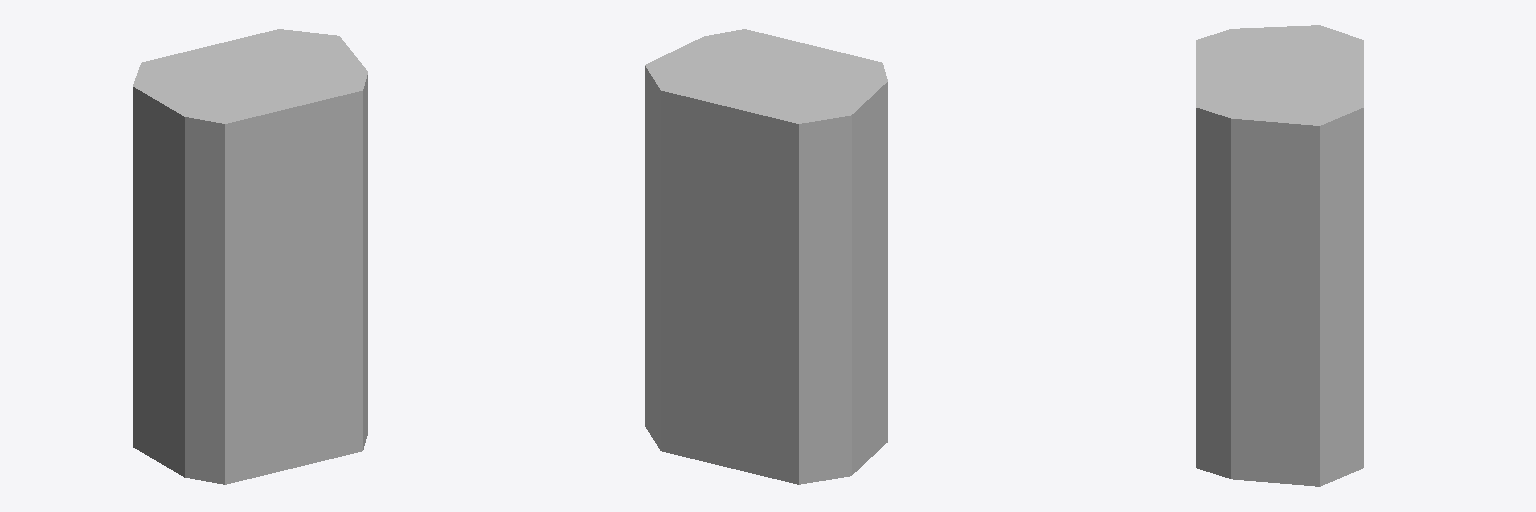
File: custom_right_leg.obj
3 views of the same model, side by side, from view 1: azimuth 30°, elevation 25°; view 2: azimuth 150°, elevation 25°; view 3: azimuth 270°, elevation 25° (orthographic).
Parts seen in each view (by area): view 1: Cube_Cube.002; view 2: Cube_Cube.002; view 3: Cube_Cube.002.
Part boxes in pixels (left/top/right/bottom): Cube_Cube.002: left=133, top=29, right=367, bottom=484; Cube_Cube.002: left=645, top=29, right=887, bottom=484; Cube_Cube.002: left=1196, top=25, right=1363, bottom=486.
Size of the model in its own units: 5.4 by 9 by 3.8.